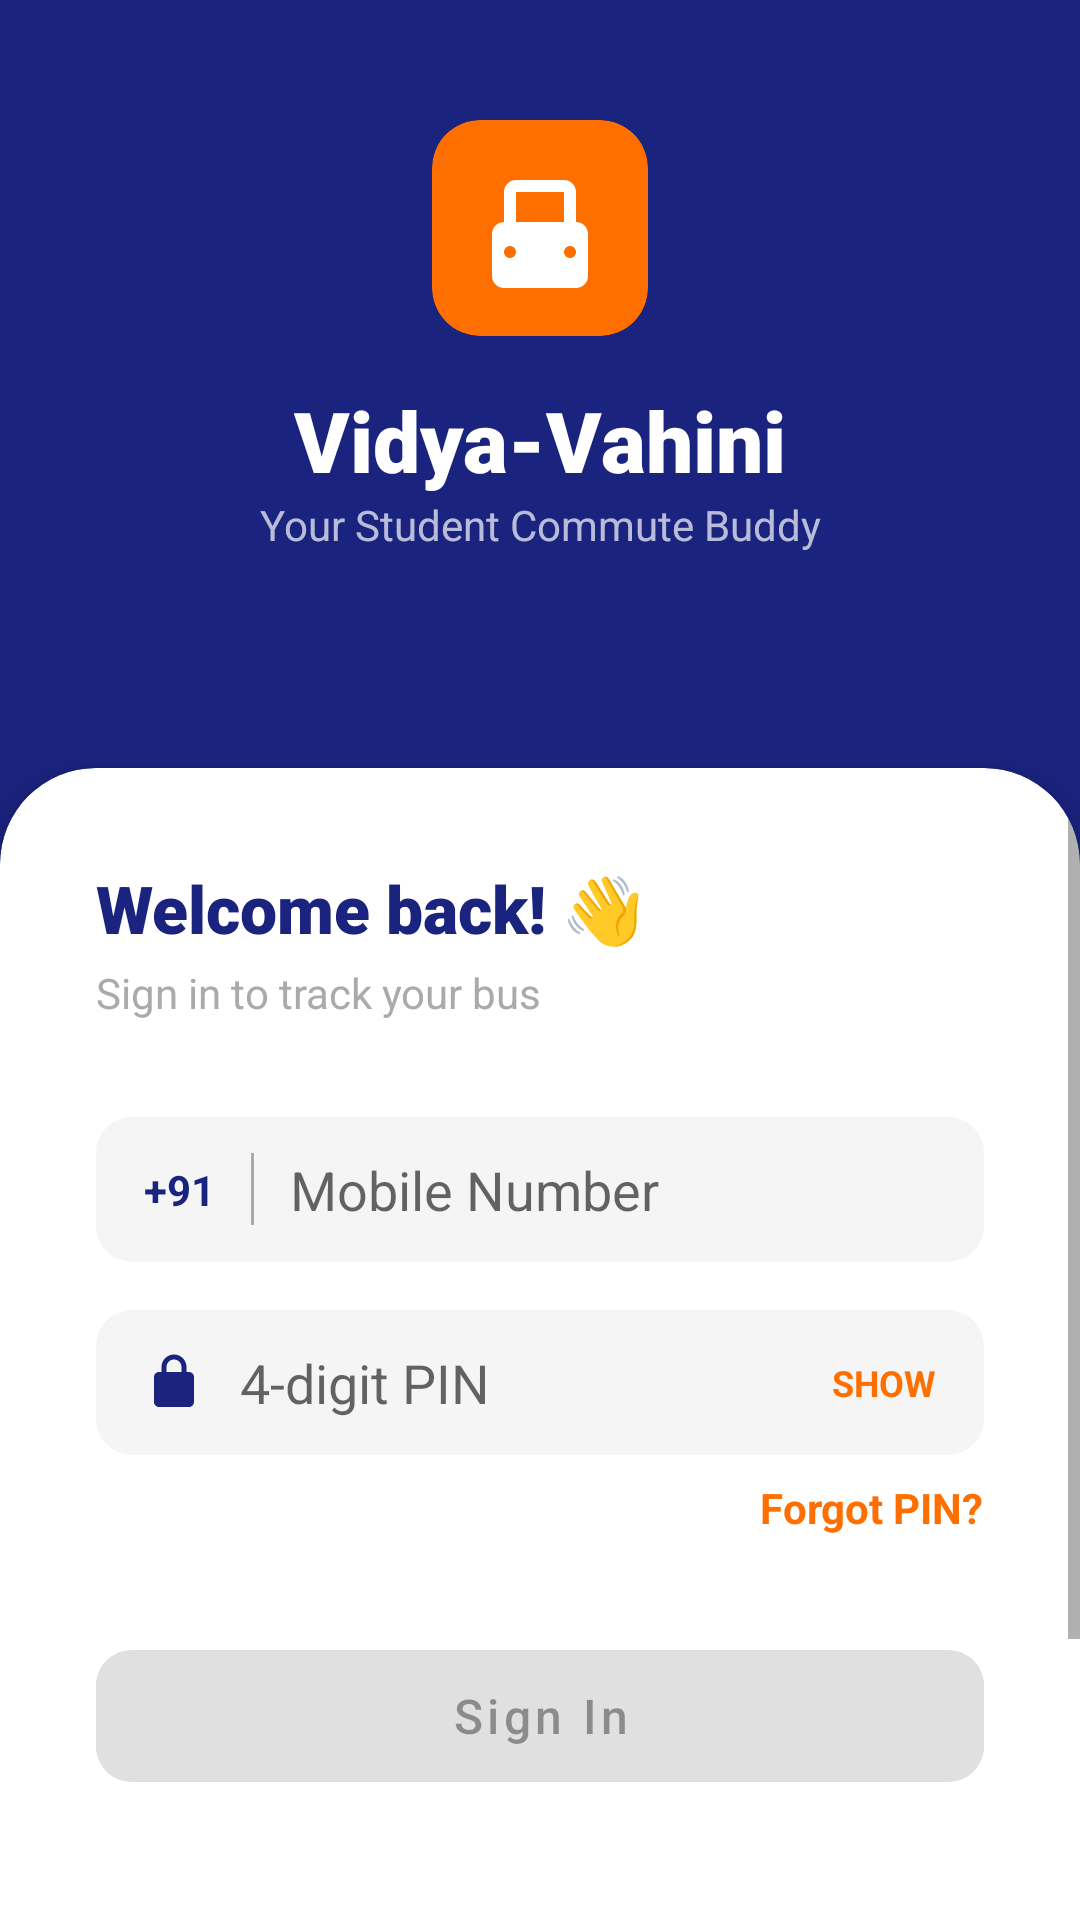

Icon bounding boxes for this 1080 × 1920 phone screenshot, format (x1, y1, x2, y2):
bus: (432, 120, 648, 336)
